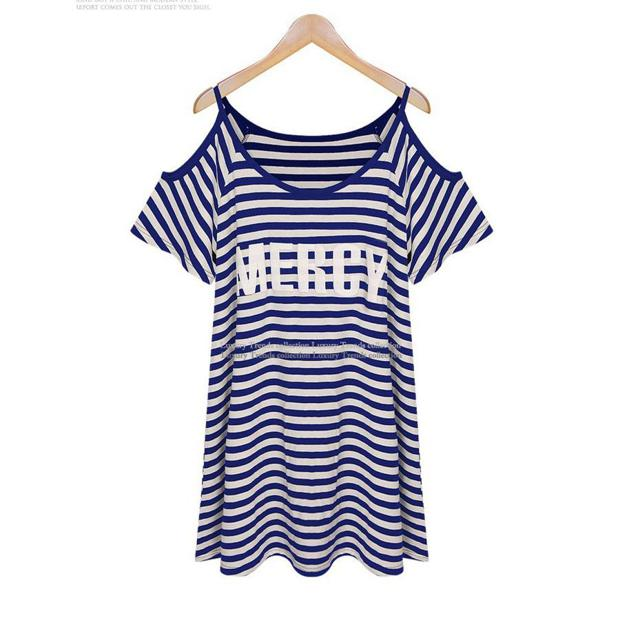Dresses: (131, 82, 496, 580)
